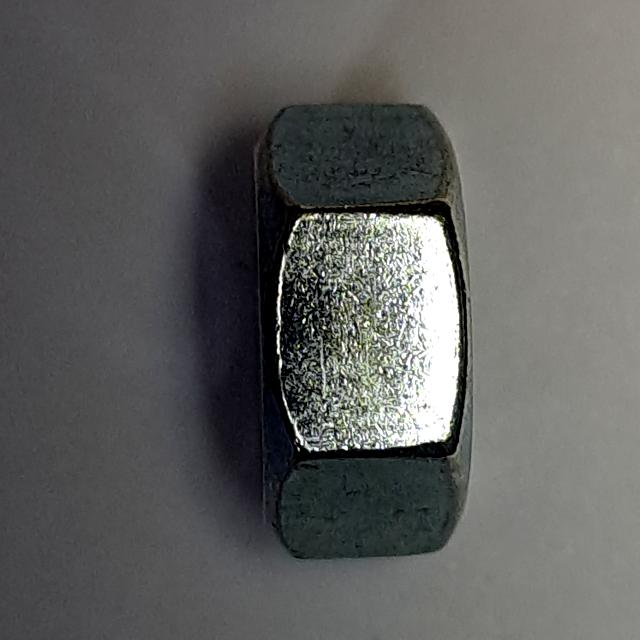Side_Excellent: (231, 90, 501, 580)
